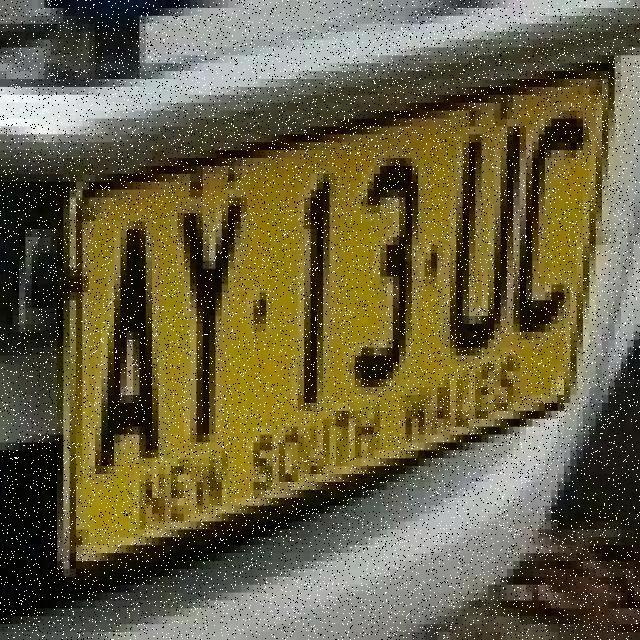LicensePlate: (45, 47, 639, 593)
